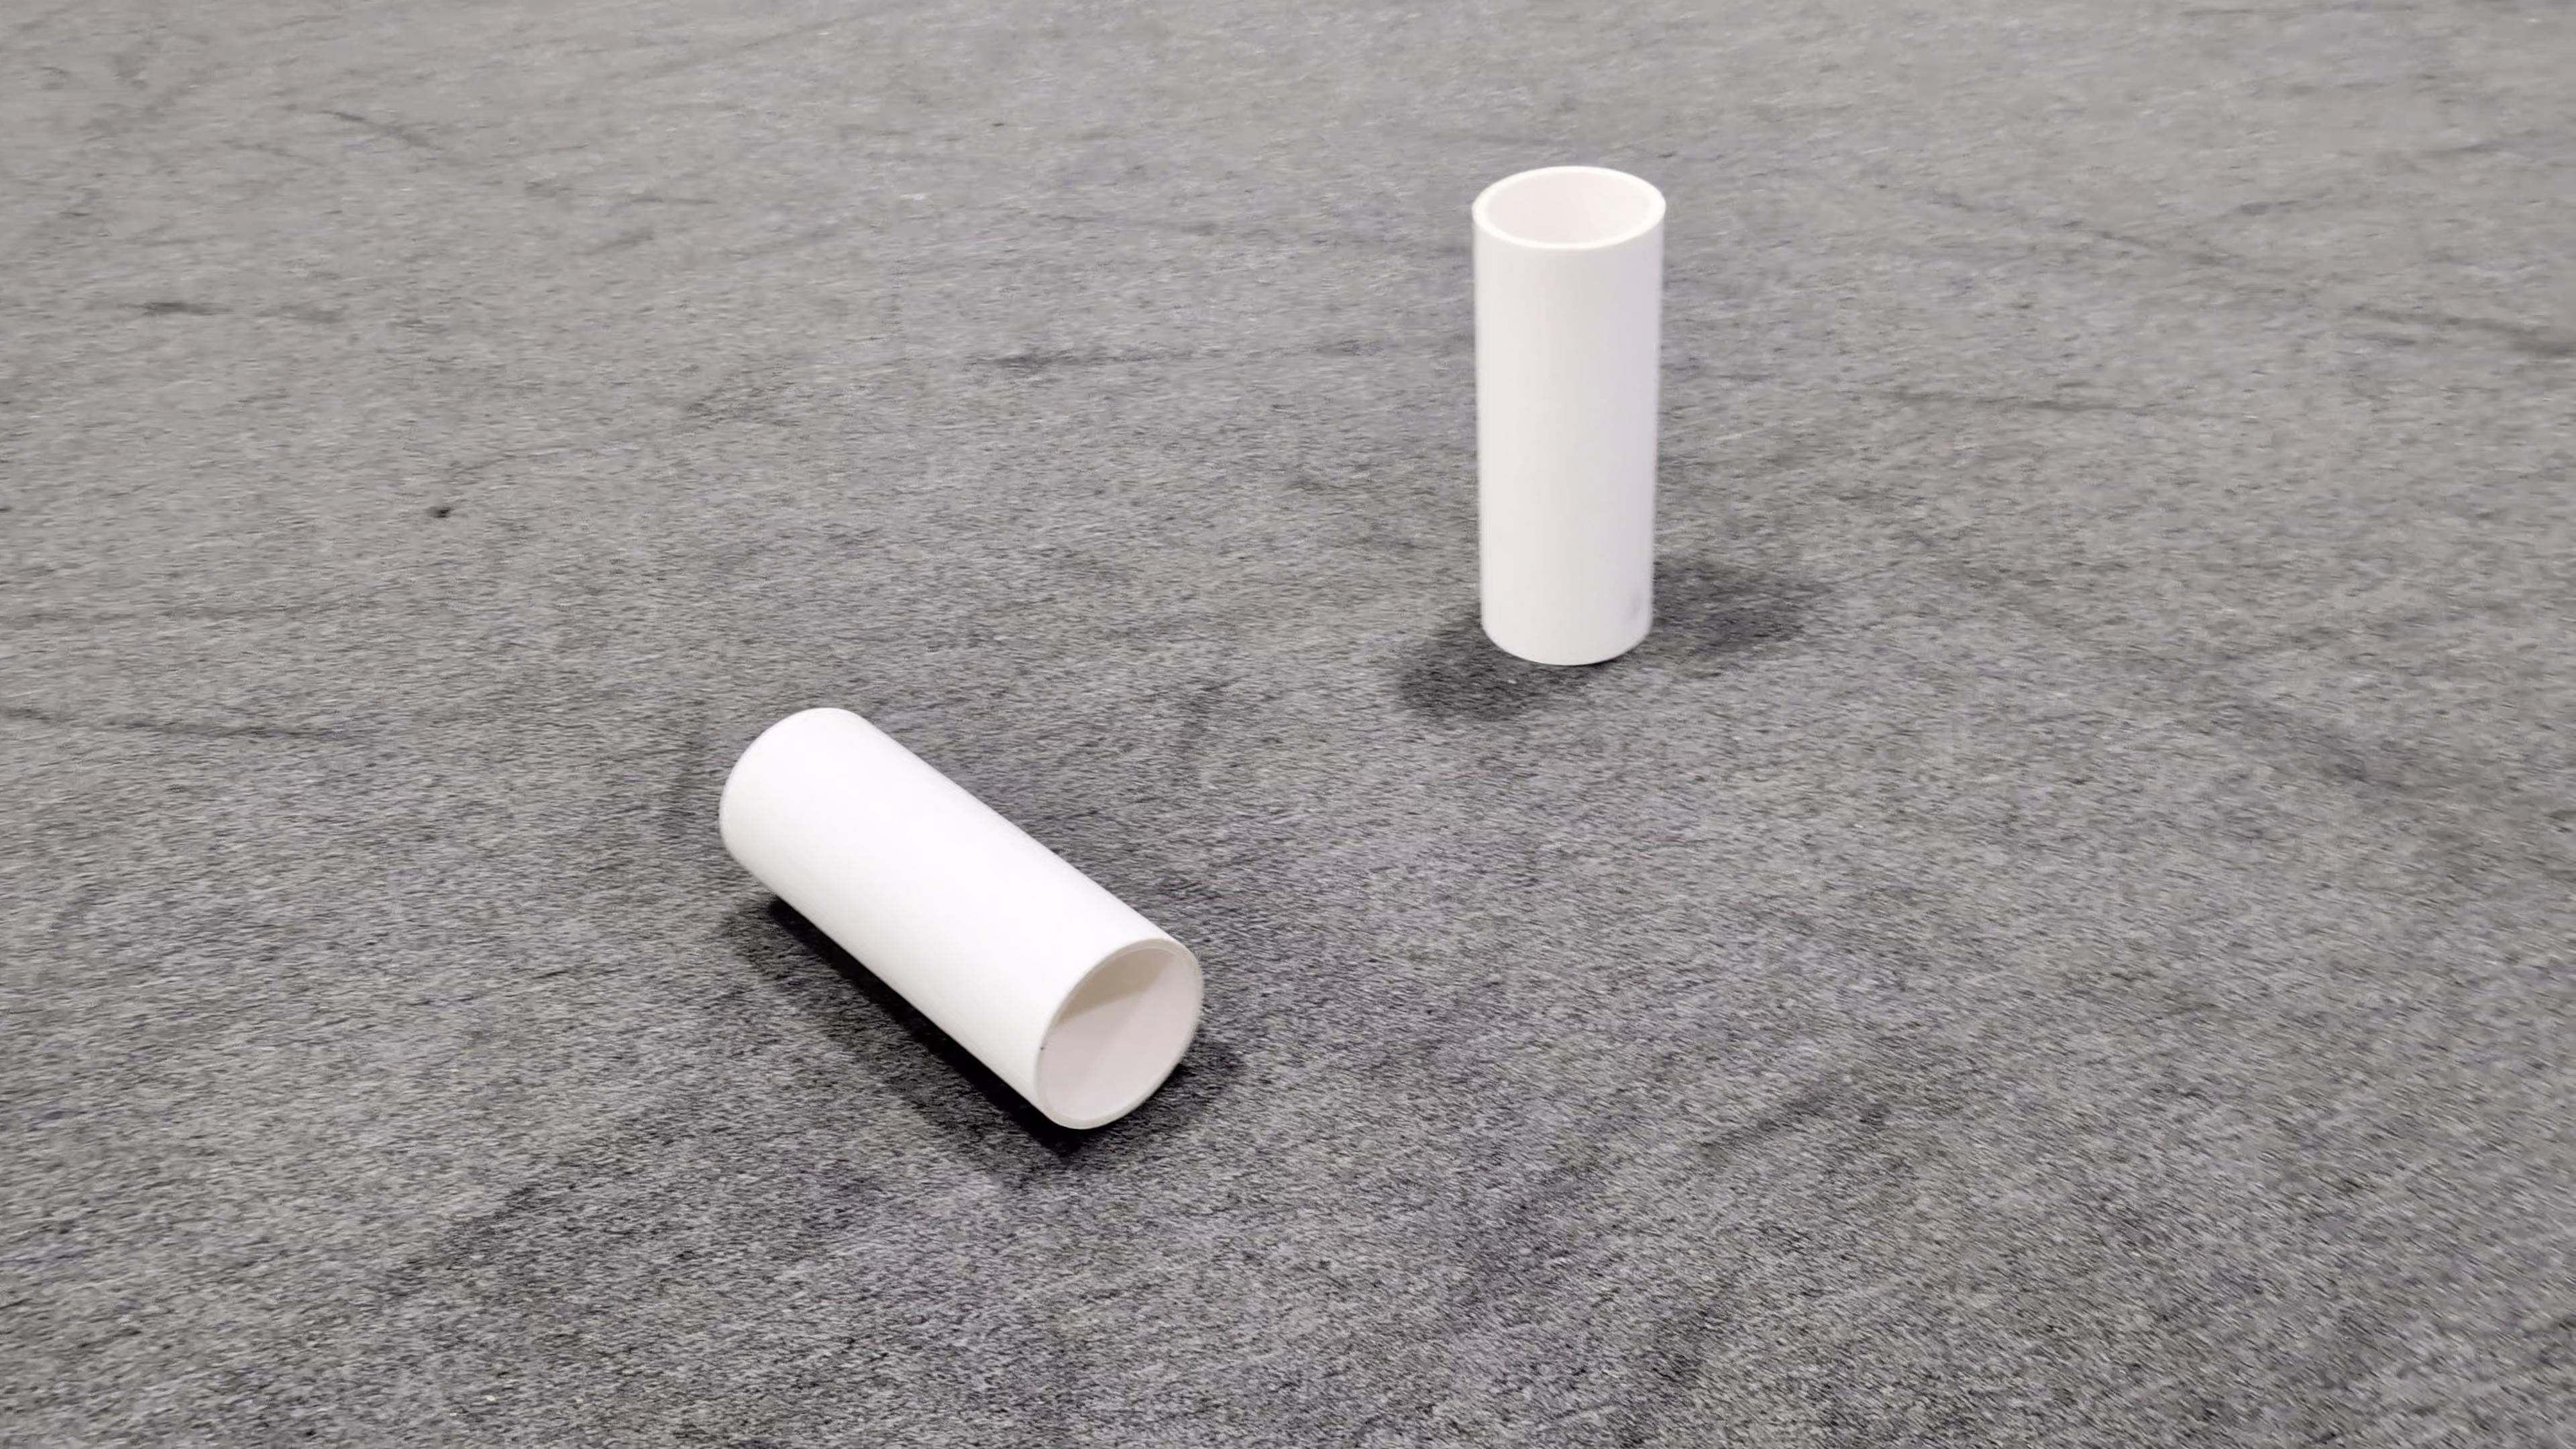coral: (717, 702, 1205, 1131), (1467, 163, 1670, 665)
